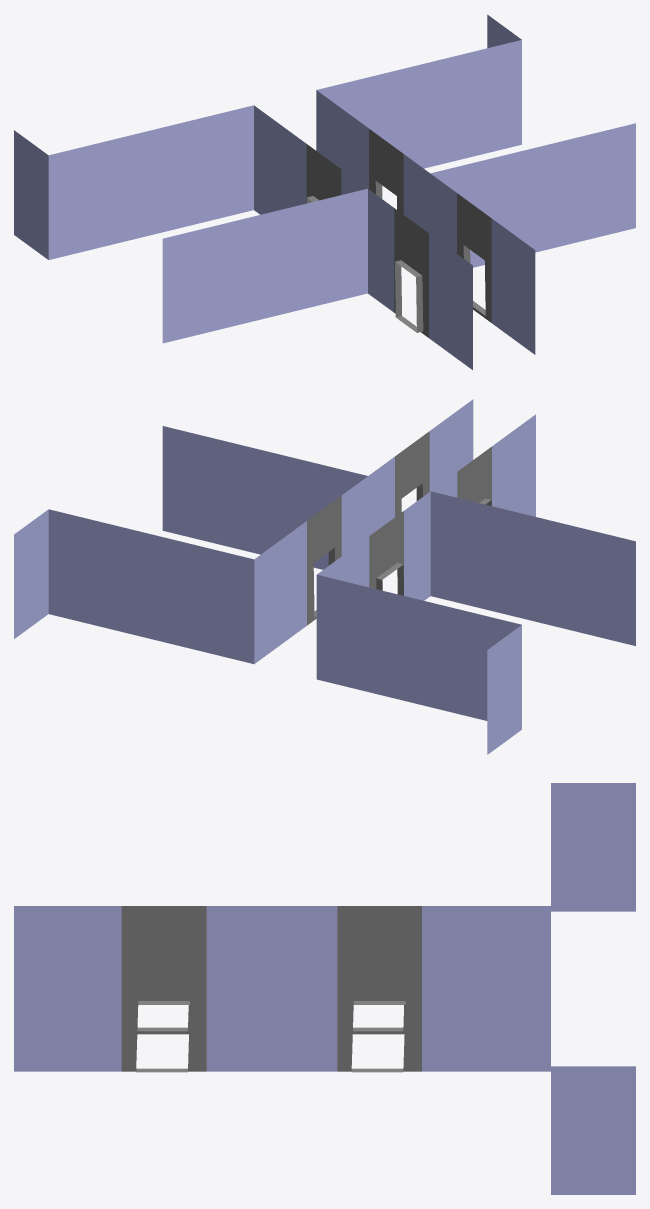
Rendered from corridorspace.fbx.
The picture shows the model from 3 angles, top to bottom: view 1: azimuth 30°, elevation 25°; view 2: azimuth 150°, elevation 25°; view 3: azimuth 270°, elevation 25°; orthographic projection. The views are drawn at different scales.
Parts seen in each view (by area): view 1: corridorspcae; view 2: corridorspcae; view 3: corridorspcae.
Part boxes in pixels (x1,y1,x2,y2): corridorspcae: (14, 14, 635, 369); corridorspcae: (14, 399, 635, 754); corridorspcae: (14, 783, 635, 1194).
Size of the model in its own units: 1940 by 411 by 1801.
